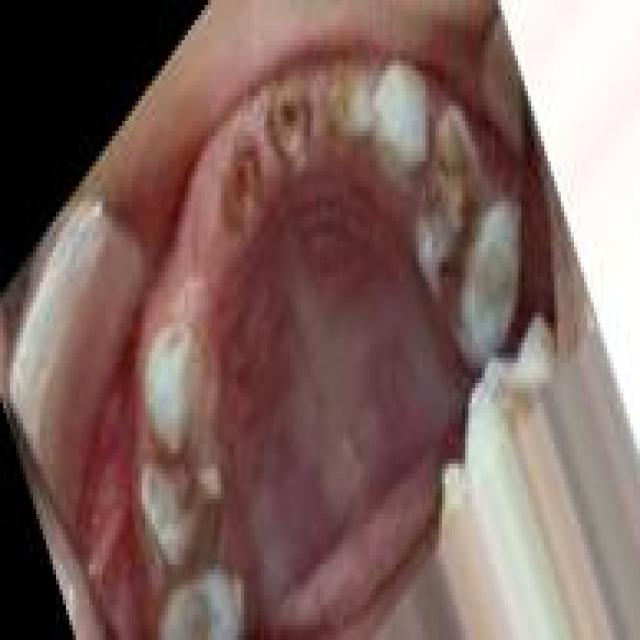caries: (416, 124, 485, 303), (148, 422, 213, 522), (262, 85, 314, 173), (323, 61, 371, 140)
